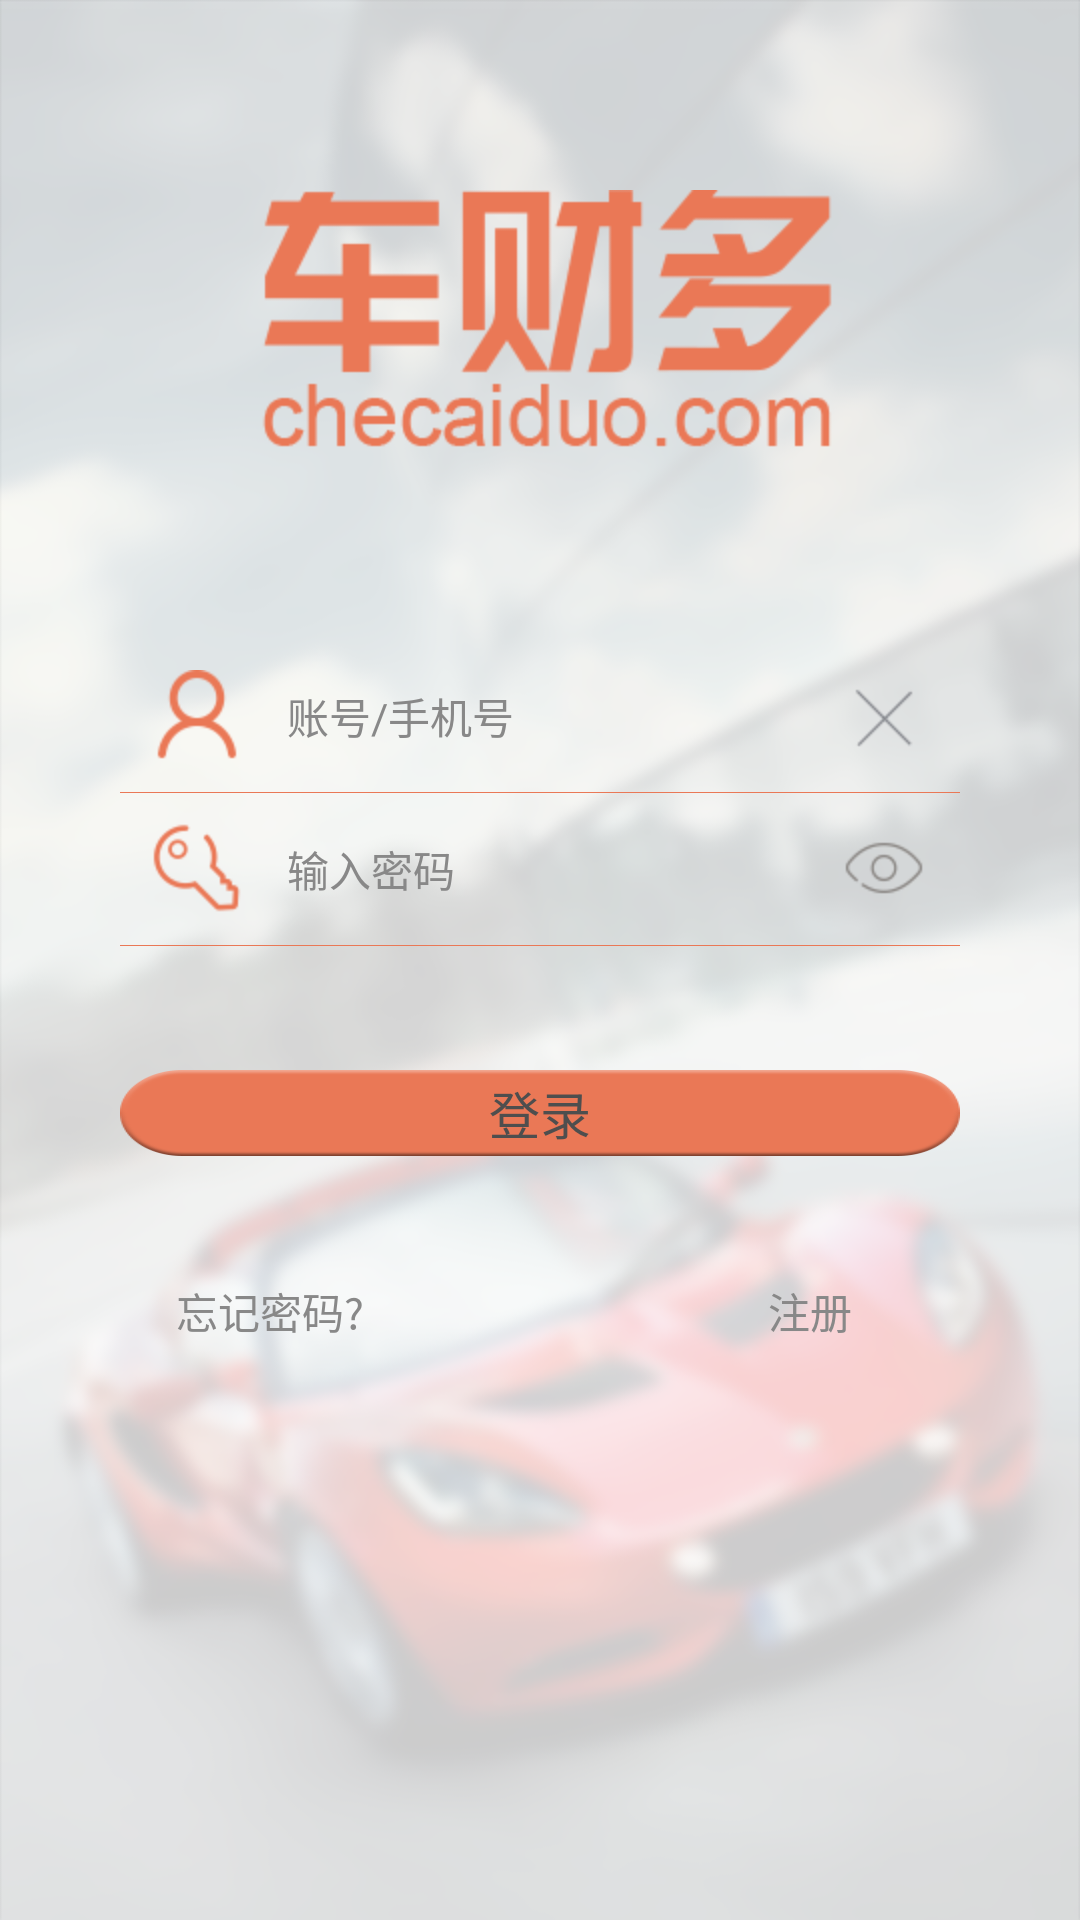

Screen size 1080w x 1920h. Icon name, then its box in pixels as (x1, y1, x2, y2):
account clear: (856, 690, 912, 746)
pass visible: (845, 843, 922, 894)
password: (153, 824, 240, 911)
